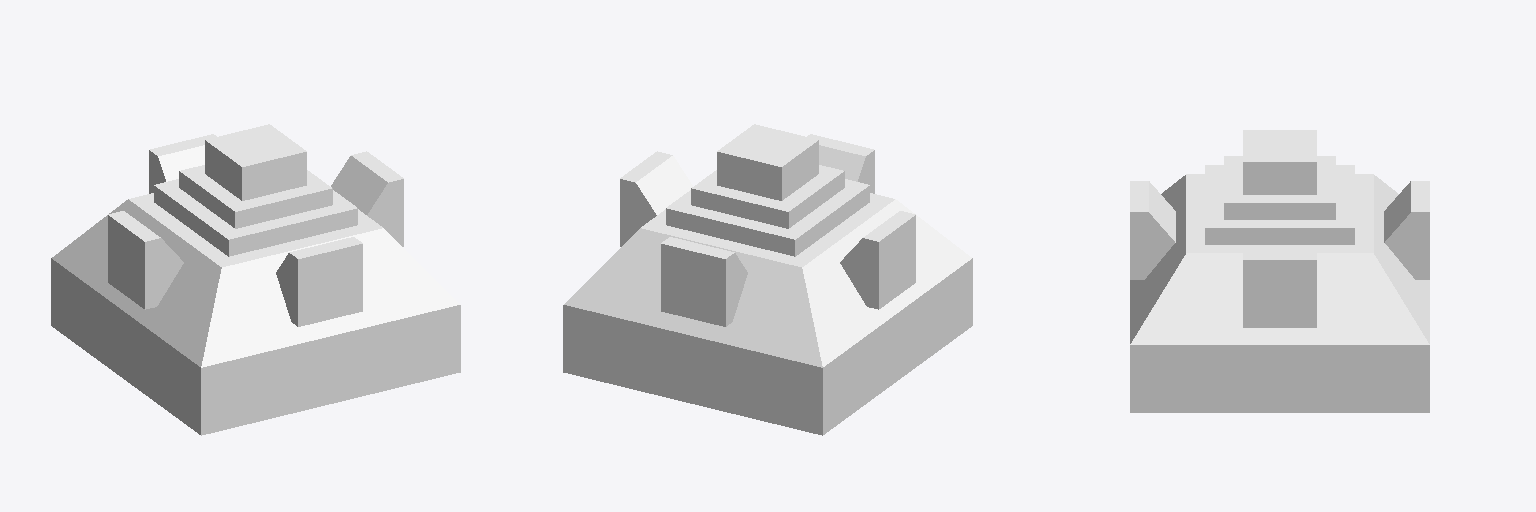
Rendered from stability_field_generator_static.obj.
The picture shows the model from 3 angles: view 1: azimuth 30°, elevation 25°; view 2: azimuth 150°, elevation 25°; view 3: azimuth 270°, elevation 25°; orthographic projection.
Visible parts, largest first — view 1: Base_Cube.006, Power_Ports_Cube.003; view 2: Base_Cube.006, Power_Ports_Cube.003; view 3: Base_Cube.006, Power_Ports_Cube.003.
Boxes of the visible parts, <box> form: Base_Cube.006: <box>51,124,460,435</box>; Power_Ports_Cube.003: <box>108,134,403,326</box>; Base_Cube.006: <box>563,124,972,435</box>; Power_Ports_Cube.003: <box>620,134,915,326</box>; Base_Cube.006: <box>1130,130,1429,412</box>; Power_Ports_Cube.003: <box>1130,181,1429,327</box>.
Size of the model in its own units: 1 by 0.8125 by 1.